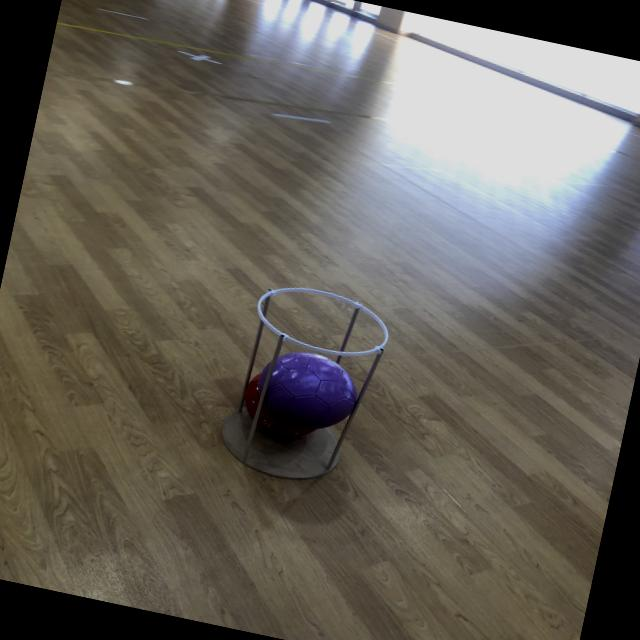purple_ball: (254, 344, 364, 435)
red_ball: (236, 366, 326, 444)
